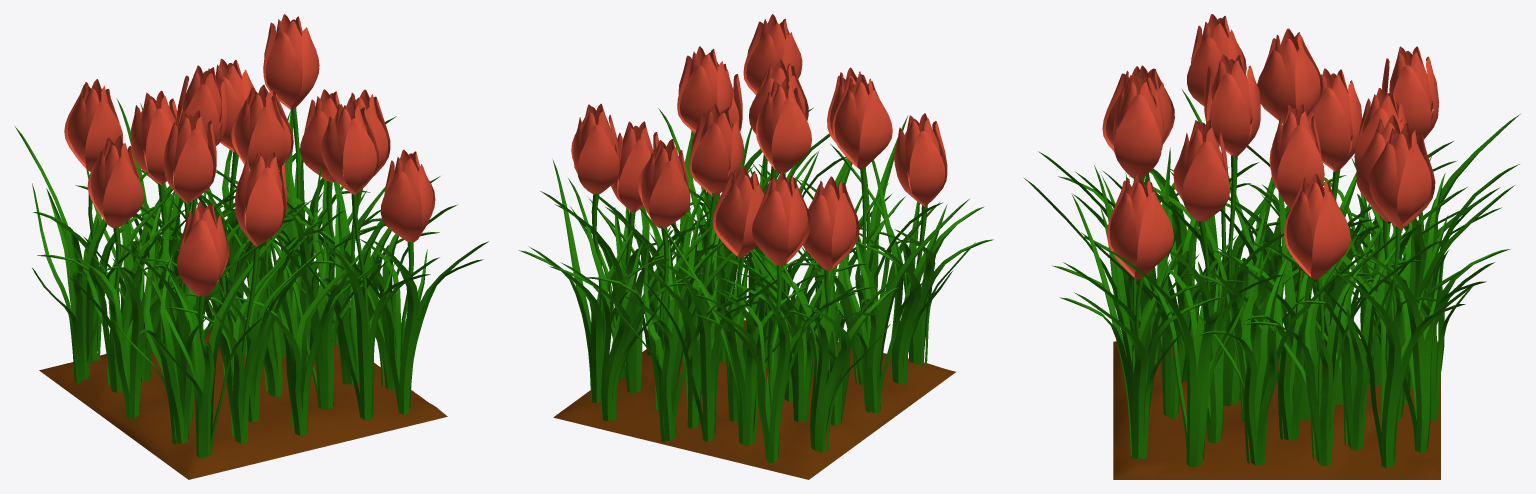
File: red-tulip.glb
3 renders of one model, left to right at view 1: azimuth 30°, elevation 25°; view 2: azimuth 150°, elevation 25°; view 3: azimuth 270°, elevation 25°, orthographic. The views are drawn at different scales.
Parts seen in each view (by area): view 1: 4_nft_bloom; view 2: 4_nft_bloom; view 3: 4_nft_bloom.
Part boxes in pixels (box(x1,y1,x2,y2)): 4_nft_bloom: box(15, 14, 488, 479); 4_nft_bloom: box(519, 14, 993, 479); 4_nft_bloom: box(1023, 14, 1520, 479).
Bounding box in the file's own units: 0.9577 × 0.8494 × 1.07.
